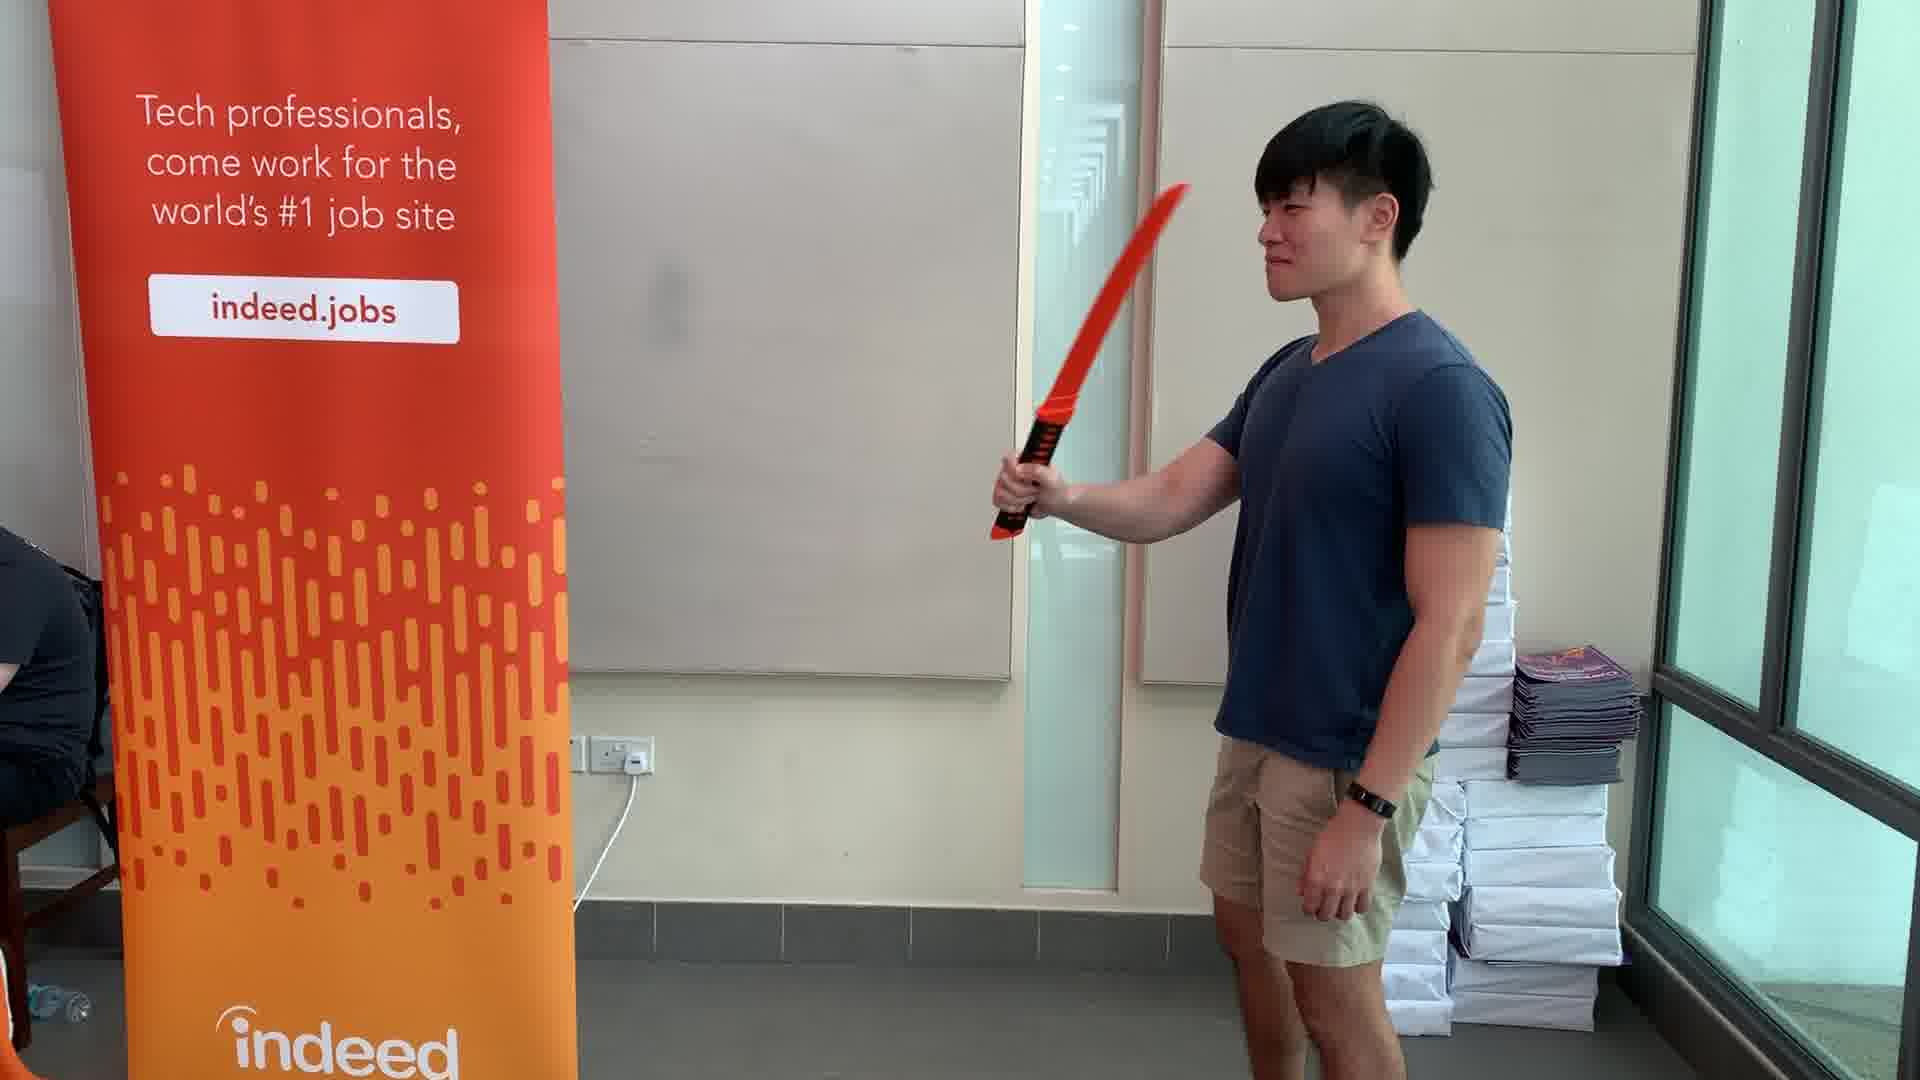knife: (981, 177, 1200, 549)
